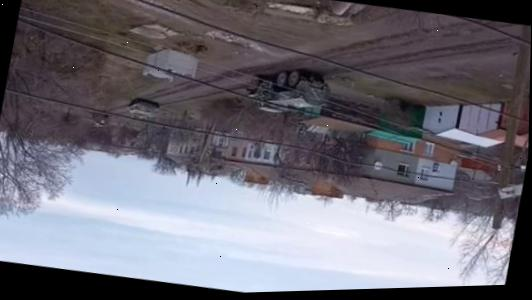tank: (126, 95, 160, 120)
truck: (242, 61, 332, 120), (89, 108, 111, 128)
